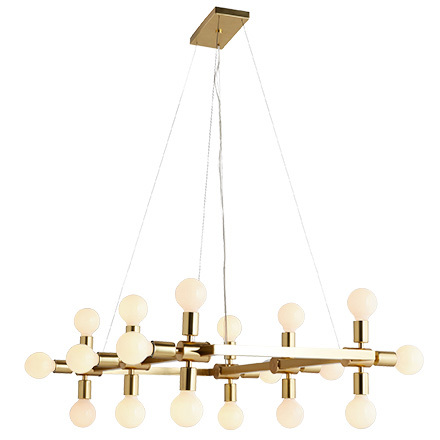chandelier: (20, 4, 428, 437)
